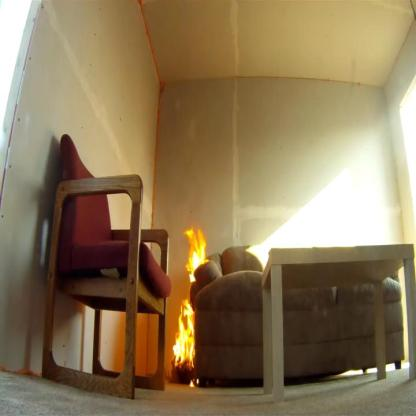fire: (171, 296, 200, 389), (180, 225, 210, 285)
